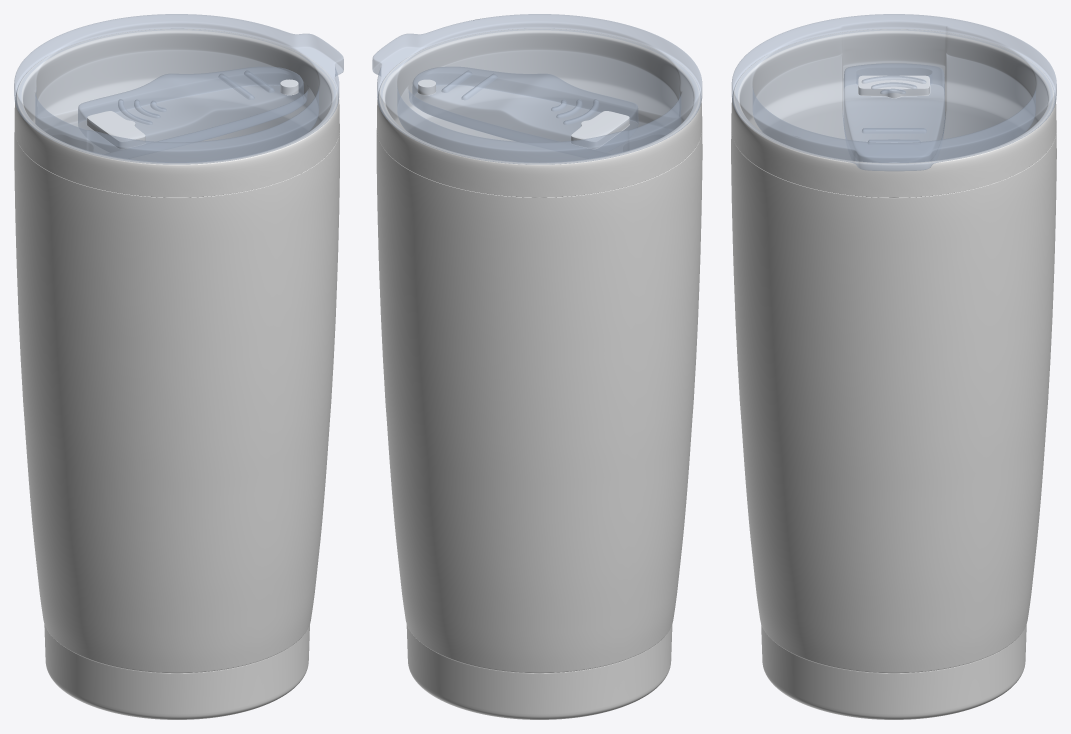
Rendered from 10228-onesize.glb.
The picture shows the model from 3 angles, left to right: view 1: azimuth 30°, elevation 25°; view 2: azimuth 150°, elevation 25°; view 3: azimuth 270°, elevation 25°; orthographic projection.
Parts seen in each view (by area): view 1: 1625.002; view 2: 1625.002; view 3: 1625.002.
Boxes of the visible parts, box(x1,y1,x2,y2) form: 1625.002: box(14, 14, 343, 719); 1625.002: box(372, 14, 702, 719); 1625.002: box(731, 14, 1056, 719).
Size of the model in its own units: 2.13 by 4.03 by 2.04.
